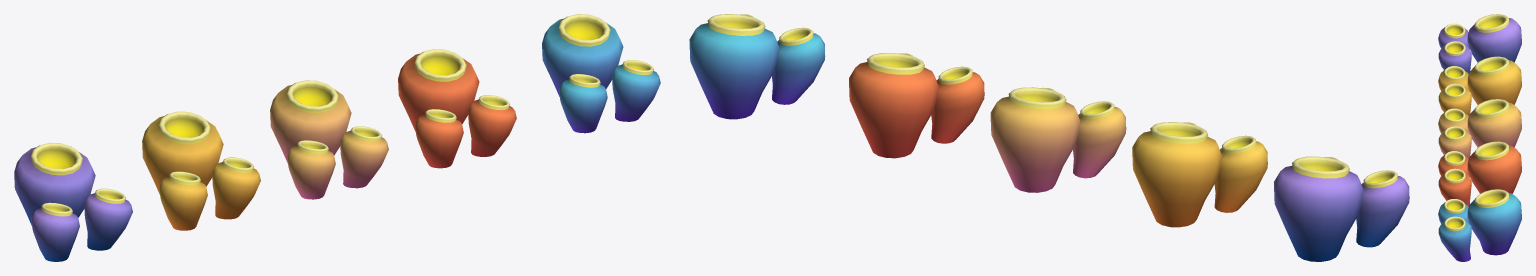
The model's file is Coral_Reef_Set5.glb.
The picture shows the model from 3 angles, left to right: view 1: azimuth 30°, elevation 25°; view 2: azimuth 150°, elevation 25°; view 3: azimuth 270°, elevation 25°; orthographic projection. The views are drawn at different scales.
Visible parts, largest first — view 1: E_CoralReef.001, E_CoralReef.002, E_CoralReef, E_CoralReef.003, E_CoralReef.004; view 2: E_CoralReef.001, E_CoralReef.002, E_CoralReef, E_CoralReef.003, E_CoralReef.004; view 3: E_CoralReef.004, E_CoralReef.003, E_CoralReef.002, E_CoralReef, E_CoralReef.001.
Part boxes in pixels (left/top/right/bottom): E_CoralReef.001: left=142, top=111, right=260, bottom=230; E_CoralReef.002: left=270, top=80, right=388, bottom=199; E_CoralReef: left=14, top=142, right=132, bottom=261; E_CoralReef.003: left=398, top=49, right=516, bottom=168; E_CoralReef.004: left=542, top=14, right=660, bottom=133; E_CoralReef.001: left=1132, top=122, right=1267, bottom=227; E_CoralReef.002: left=990, top=87, right=1126, bottom=192; E_CoralReef: left=1274, top=156, right=1409, bottom=261; E_CoralReef.003: left=849, top=53, right=984, bottom=158; E_CoralReef.004: left=689, top=14, right=825, bottom=119; E_CoralReef.004: left=1438, top=189, right=1521, bottom=261; E_CoralReef.003: left=1438, top=141, right=1521, bottom=206; E_CoralReef.002: left=1438, top=99, right=1521, bottom=158; E_CoralReef: left=1438, top=14, right=1521, bottom=73; E_CoralReef.001: left=1438, top=56, right=1521, bottom=116.
Size of the model in its own units: 9.75 by 1.26 by 1.67.
Materials: 1 (1 with a texture image).
